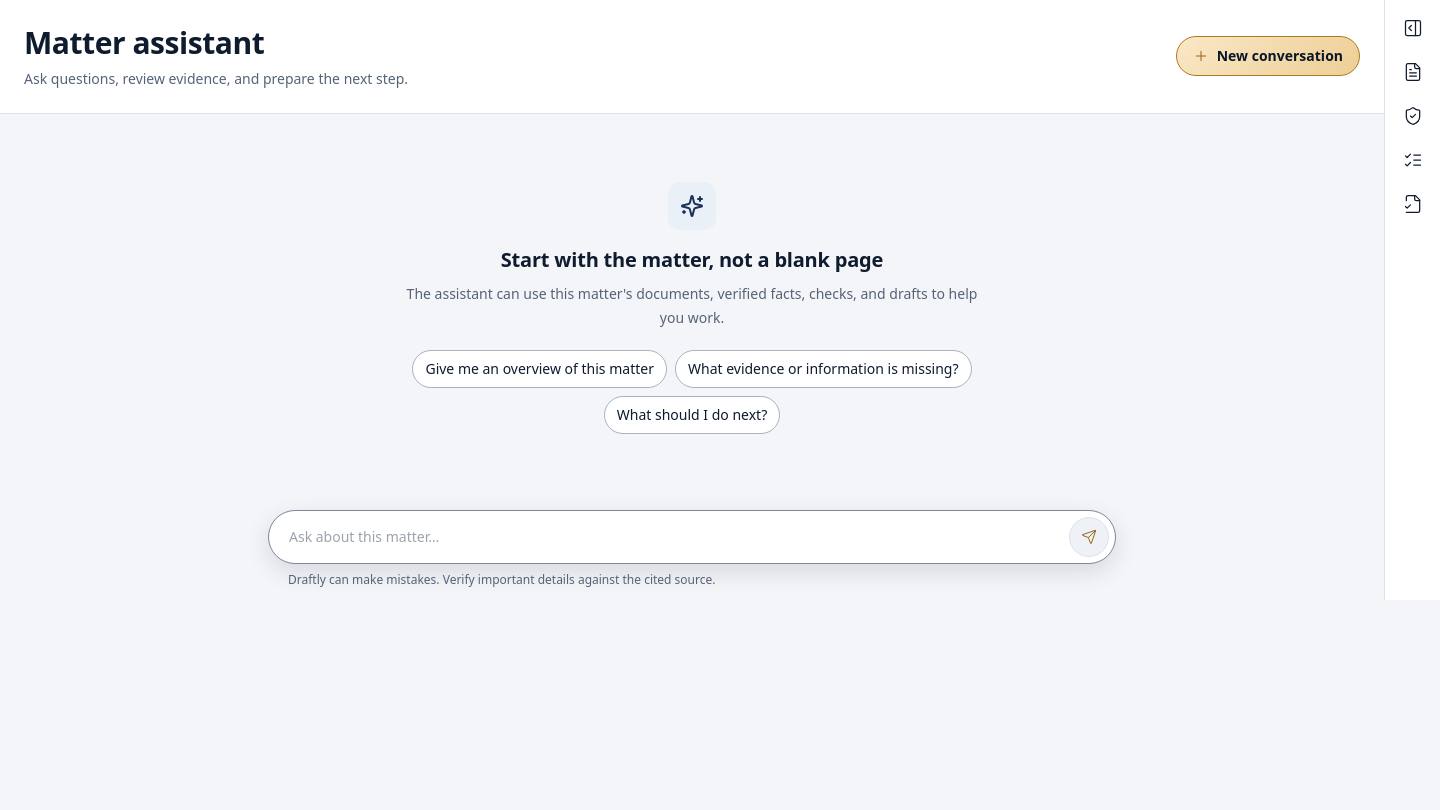
Test: MatterAssistantScreen › keeps polling after an SSE snapshot reports a queued job
Expected: the button "New conversation" is shown, [1176,36,1360,76]
Type "hello" into the text box at [675, 536], box [289,516,1061,556]
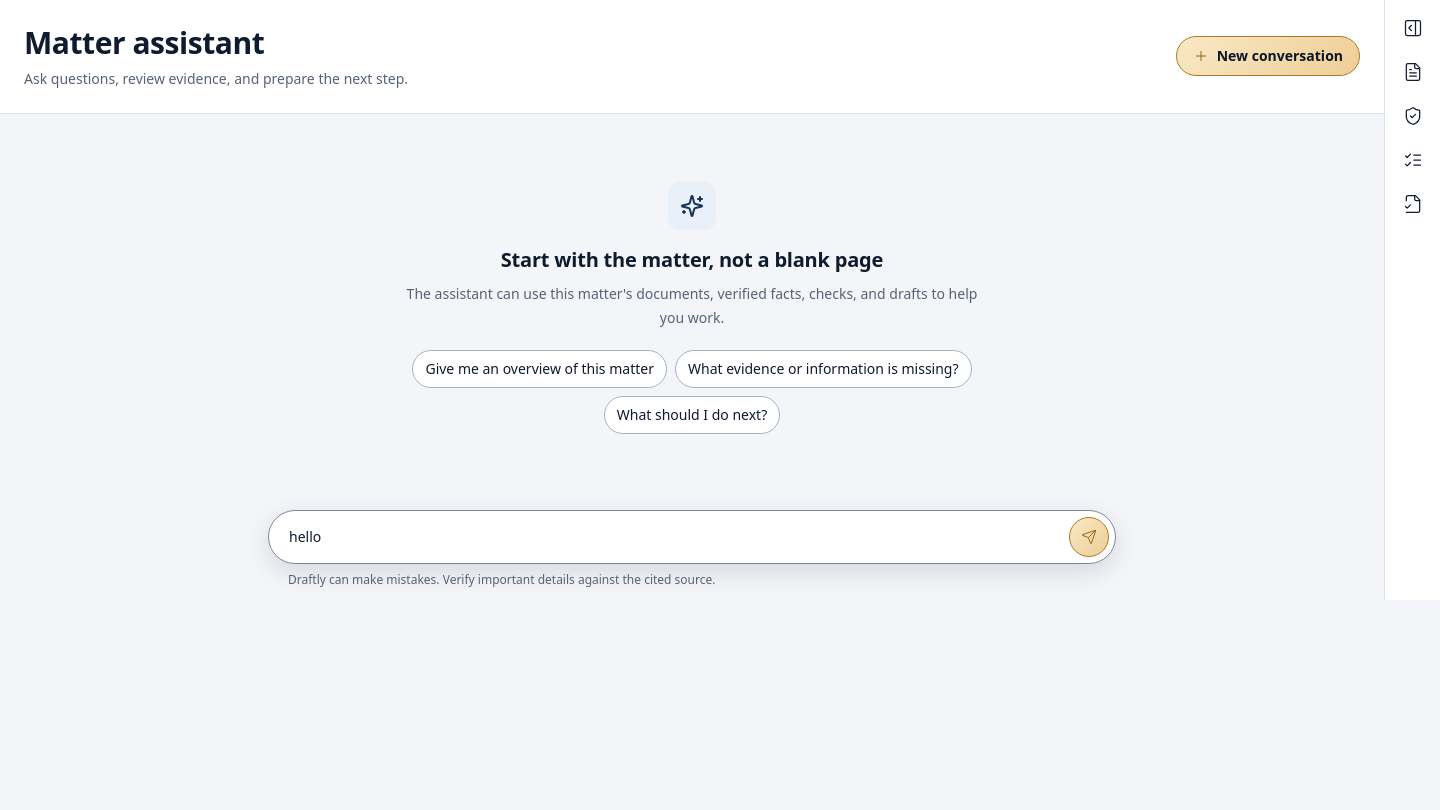
Click the button named "Send" at [1089, 536], box [1069,516,1109,556]
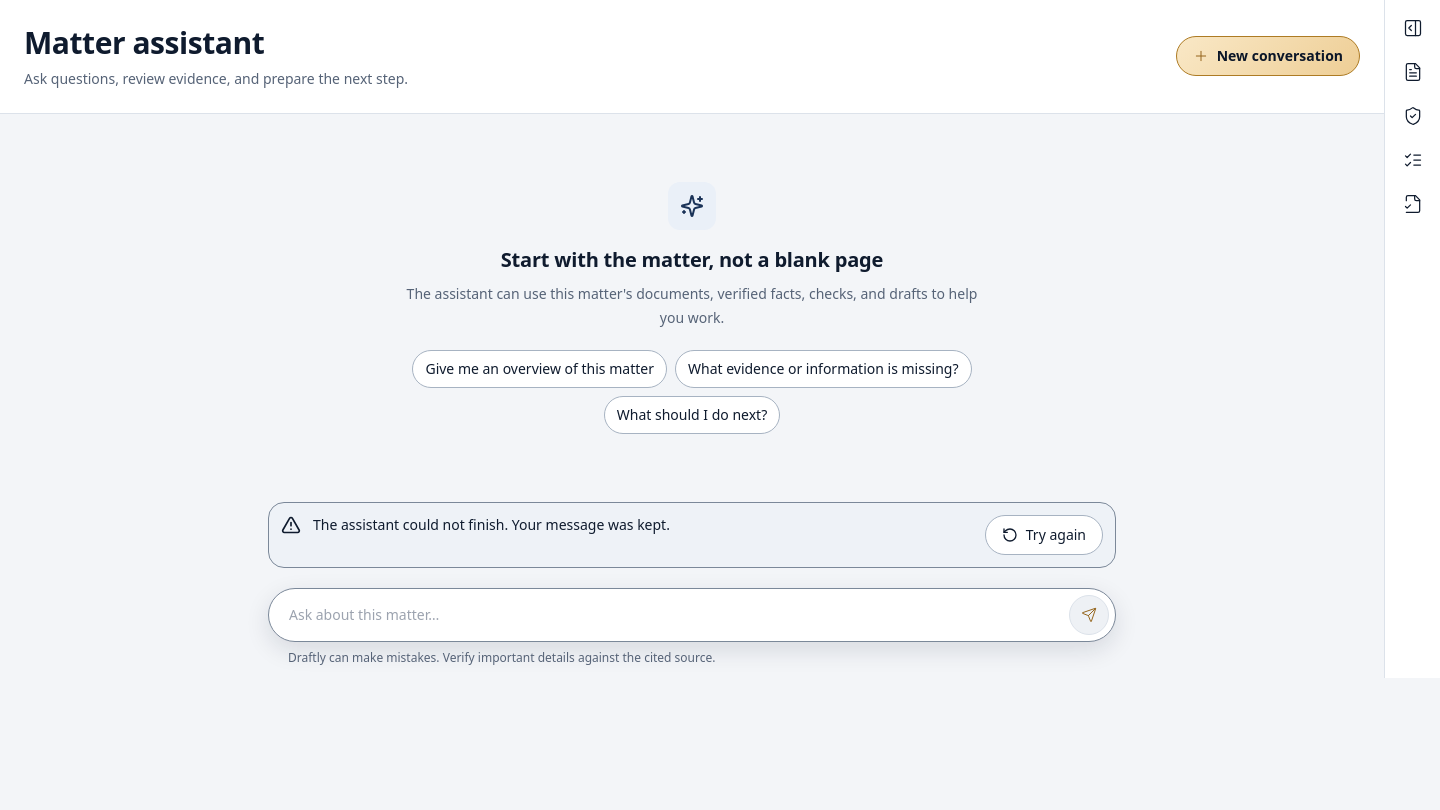
Now the message "The assistant could not finish. Your message was kept. Try again" is shown, box [268,502,1116,568]
